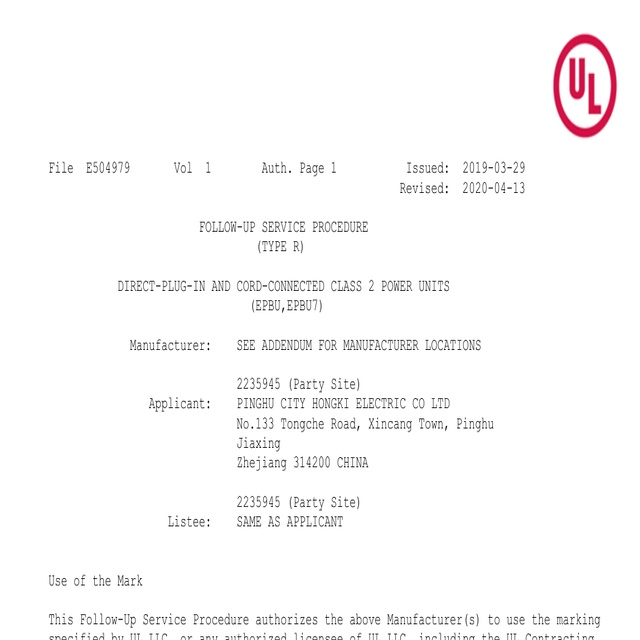ul: (551, 31, 620, 140)
